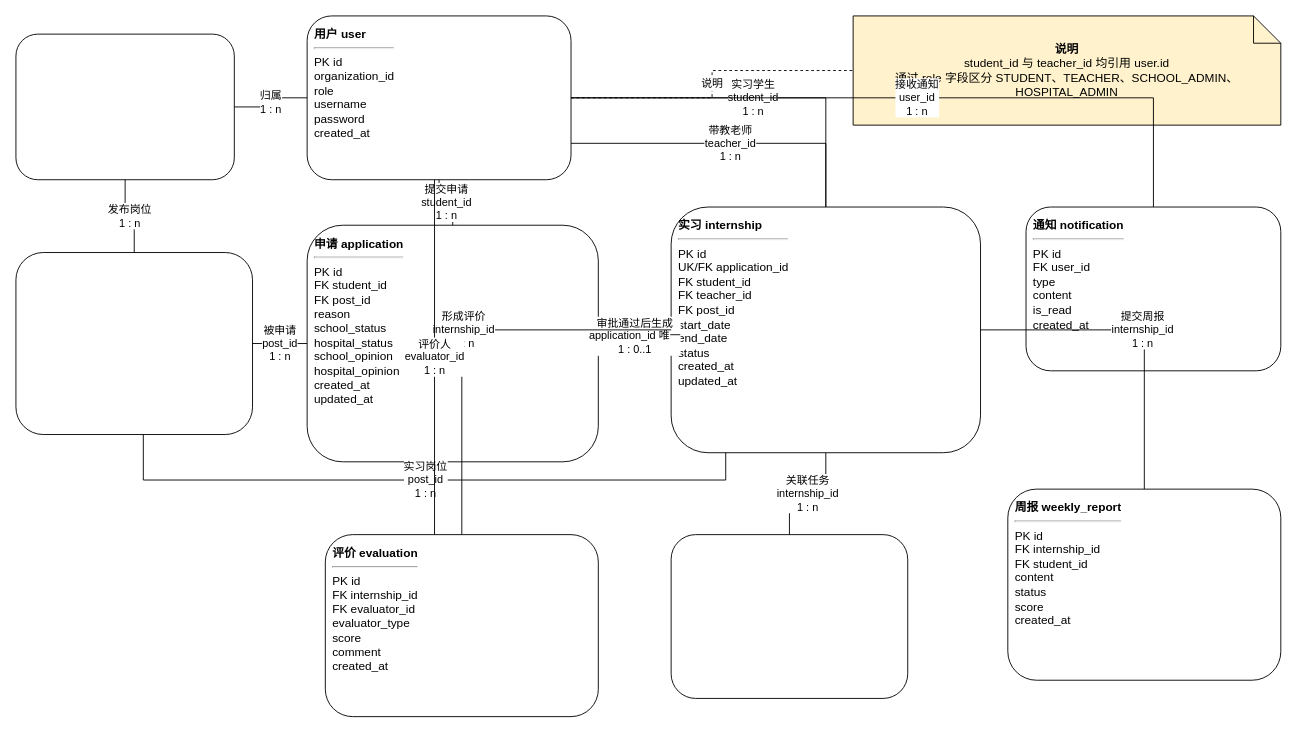
The diagram is 1297 pixels wide and 733 high, and some of its shapes have lost their labels. Here are the shapes that lost their labels. From the top down, the centre of each, then its label:
[124,106]: 组织 organization PK id name type code created_at
[134,343]: 岗位 post PK id hospital_id department quota start_date end_date status
[789,616]: 任务 task PK id FK internship_id FK teacher_id title deadline status
